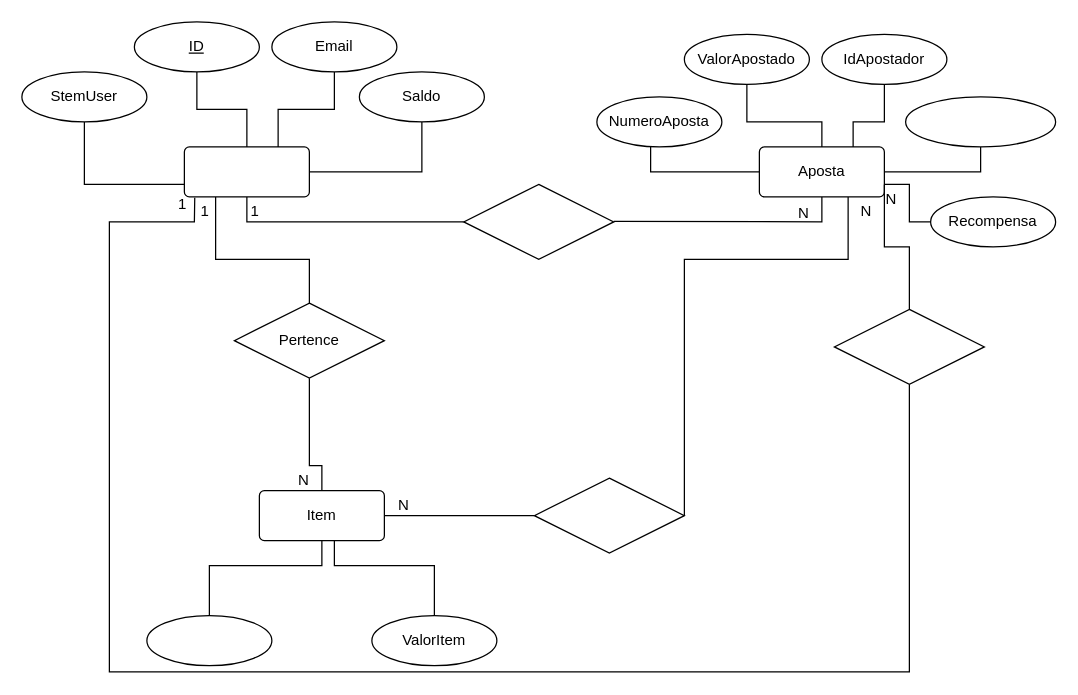
The diagram is 1078 pixels wide and 695 high, and some of its shapes have lost their labels. Here are the shapes that lost their labels. From the top down, the box of each, then its label:
(904, 96, 1056, 147): MultiplicadorValor
(183, 146, 309, 197): Usuario
(462, 183, 614, 259): Faz
(833, 308, 984, 384): Vence
(533, 477, 684, 553): Contem
(146, 614, 272, 666): ChaveItem
